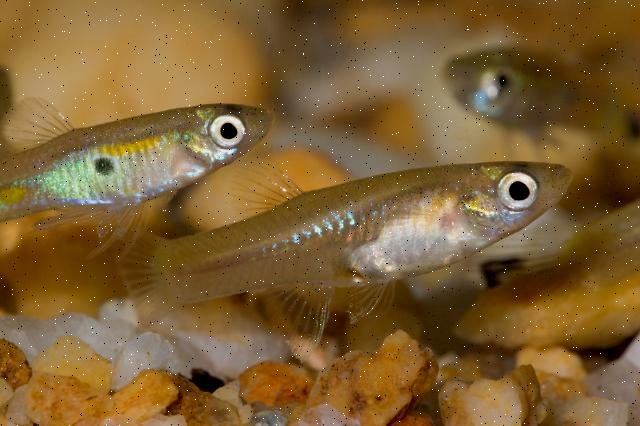Mulut: (240, 88, 288, 142), (540, 148, 588, 196)
Sirip Anal: (245, 268, 347, 376), (16, 199, 110, 247)
Sirip Dada: (344, 185, 468, 281)
Sirip Ekor: (92, 212, 204, 349)
Sirip Perut: (81, 182, 165, 276), (336, 260, 402, 336)
Sirip Punggung: (204, 141, 314, 233), (2, 84, 88, 162)
